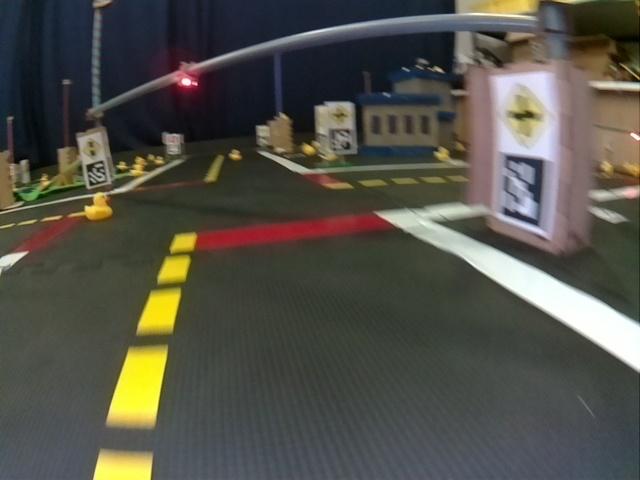Duckie: (85, 193, 112, 220), (433, 147, 449, 160), (130, 165, 143, 175), (230, 150, 241, 159)
Intersection sign: (497, 84, 550, 148), (330, 104, 351, 125)
QR code: (496, 153, 554, 236), (328, 128, 354, 152), (85, 162, 108, 184)
Signal sign: (81, 137, 102, 159)
Traffic light: (177, 62, 198, 88)
